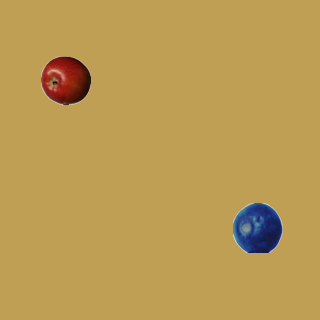Apple Braeburn: (40, 55, 90, 105)
Huckleberry: (232, 202, 282, 252)
